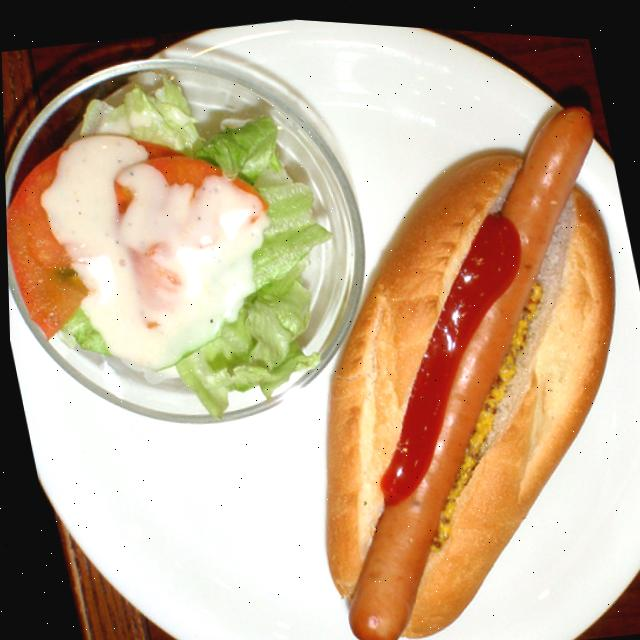汉堡快餐: (238, 47, 640, 617)
蔬菜料理: (1, 47, 357, 464)
